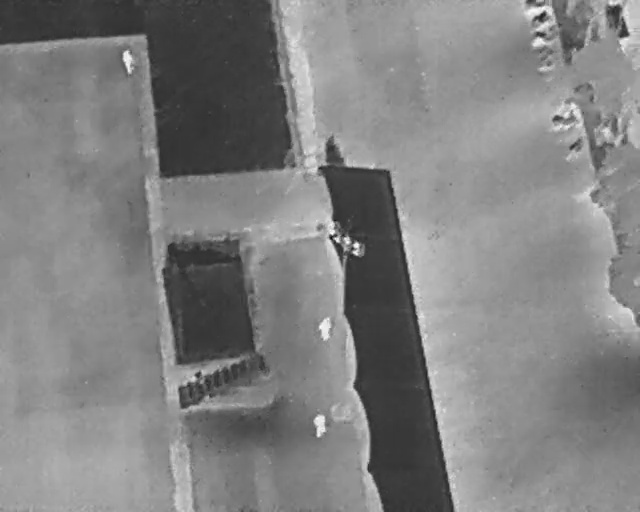Bicycle: (560, 132, 590, 162), (528, 26, 560, 51), (527, 9, 553, 29), (550, 113, 580, 130), (538, 59, 554, 74), (525, 0, 545, 7)
Person: (315, 315, 333, 344), (120, 49, 136, 77), (314, 413, 327, 439)
